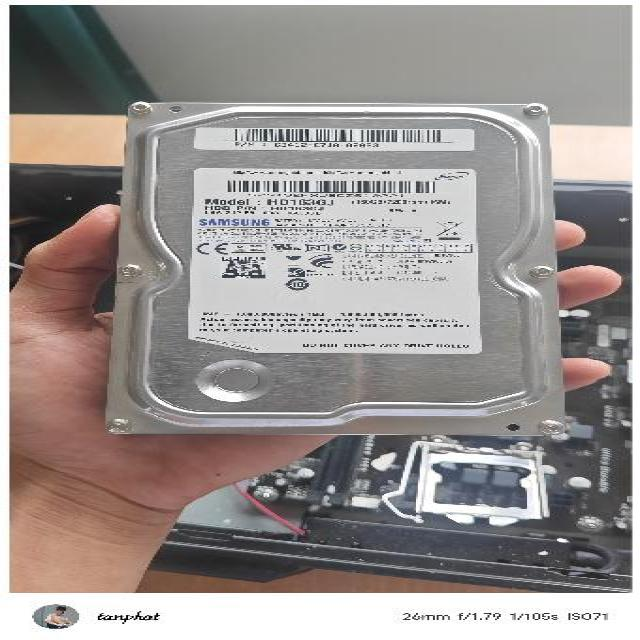DISK: (103, 96, 564, 436)
